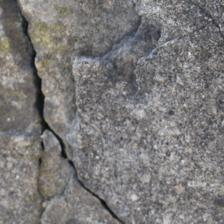Crack: (0, 1, 173, 67), (33, 0, 125, 96)
